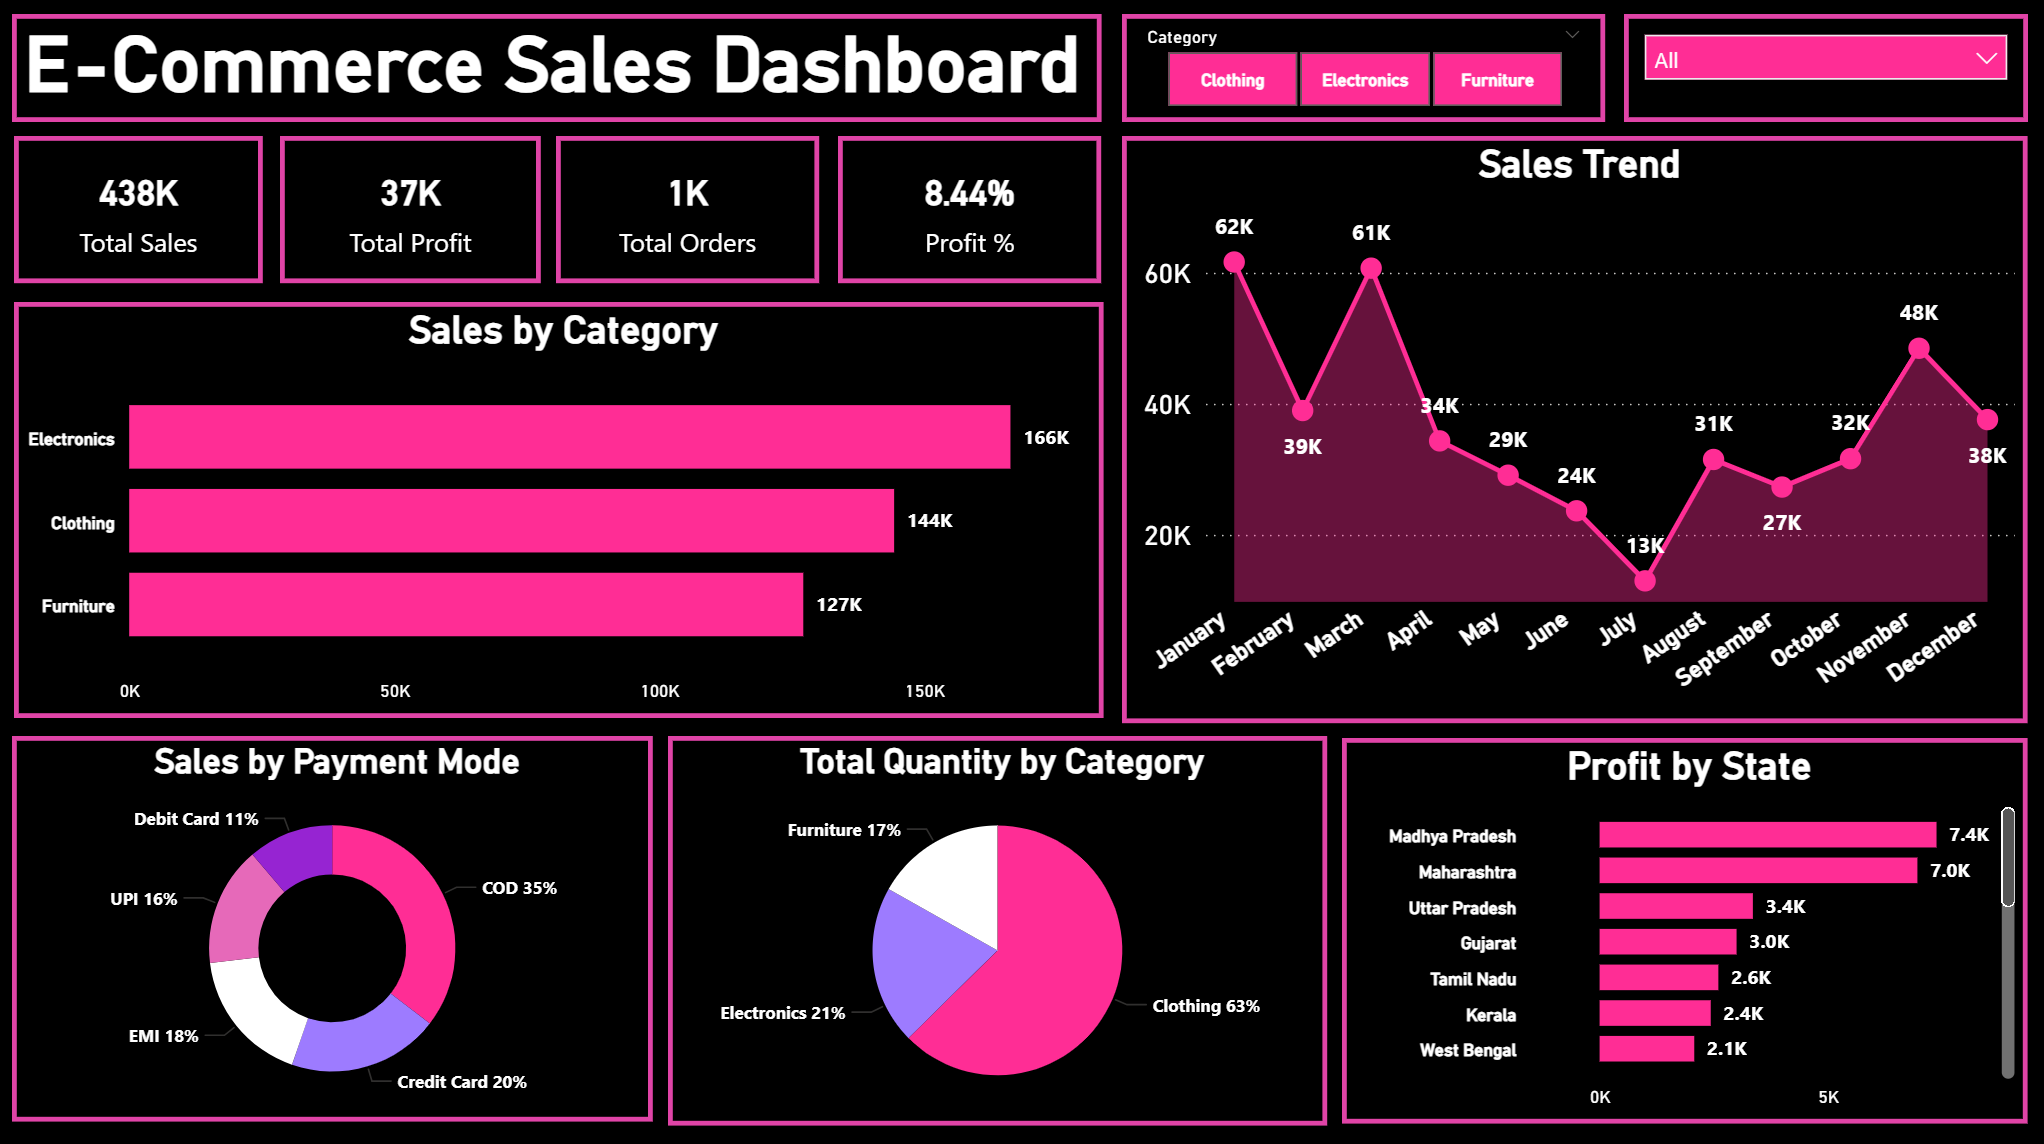

The dashboard page shown, as its layout file describes it:
{"tool":"powerbi","page":{"name":"Page 1","canvas":[1280,720],"ordinal":0},"visuals":[{"type":"textbox","title":"E-Commerce Sales Dashboard","box":[10.2,10.2,680.8,67.6],"z":0},{"type":"clusteredBarChart","title":"Sales by Category","fields":{"Category":["Details.Category"],"Y":["Details.Total Sales"]},"box":[11.5,190,680.8,260.1],"z":1000},{"type":"lineChart","title":"Sales Trend","fields":{"Category":["Orders.Order Date.Variation.Date Hierarchy.Month"],"Y":["Details.Total Sales"]},"box":[703.7,86.7,566.1,367.2],"z":2000},{"type":"donutChart","title":"Sales by Payment Mode","fields":{"Category":["Details.PaymentMode"],"Y":["Details.Total Sales"]},"box":[10.2,461.5,400.3,241],"z":3000},{"type":"clusteredBarChart","title":"Profit by State","fields":{"Category":["Orders.State"],"Y":["Details.Total Profit"]},"box":[841.4,462.8,428.4,241],"z":4000},{"type":"slicer","fields":{"Values":["Details.Category"]},"box":[703.7,10.2,302.2,67.6],"z":5000},{"type":"slicer","fields":{"Values":["Orders.Order Date.Variation.Date Hierarchy.Month"]},"box":[1017.4,10.2,252.4,67.6],"z":6000},{"type":"card","fields":{"Values":["Details.Total Sales"]},"box":[11.5,86.7,155.5,91.8],"z":7000},{"type":"card","fields":{"Values":["Details.Total Profit"]},"box":[177.2,86.7,163.2,91.8],"z":8000},{"type":"card","fields":{"Values":["Orders.Total Orders"]},"box":[350.6,86.7,164.5,91.8],"z":9000},{"type":"card","fields":{"Values":["Details.Profit %"]},"box":[526.5,86.7,164.5,91.8],"z":10000},{"type":"pieChart","fields":{"Y":["Details.Total Quantity"],"Category":["Details.Category"]},"box":[419.4,461.5,411.8,243.5],"z":11000}]}

Visuals, with their boxes in screenshot pixels (x1, y1, x2, y2), scaled from the page's 1280x720 canvas onto the 2044x1144 screenshot:
"E-Commerce Sales Dashboard" textbox: [16, 16, 1103, 124]
"Sales by Category" clusteredBarChart: [18, 302, 1106, 715]
"Sales Trend" lineChart: [1124, 138, 2028, 721]
"Sales by Payment Mode" donutChart: [16, 733, 656, 1116]
"Profit by State" clusteredBarChart: [1344, 735, 2028, 1118]
slicer - Details.Category: [1124, 16, 1606, 124]
slicer - Orders.Order Date.Variation.Date Hierarchy.Month: [1625, 16, 2028, 124]
card - Details.Total Sales: [18, 138, 267, 284]
card - Details.Total Profit: [283, 138, 544, 284]
card - Orders.Total Orders: [560, 138, 823, 284]
card - Details.Profit %: [841, 138, 1103, 284]
pieChart - Details.Total Quantity x Details.Category: [670, 733, 1327, 1120]
